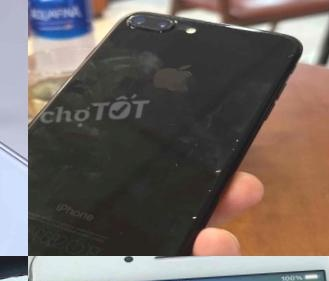scratch: (194, 127, 258, 182), (164, 179, 224, 232), (122, 15, 189, 45)
